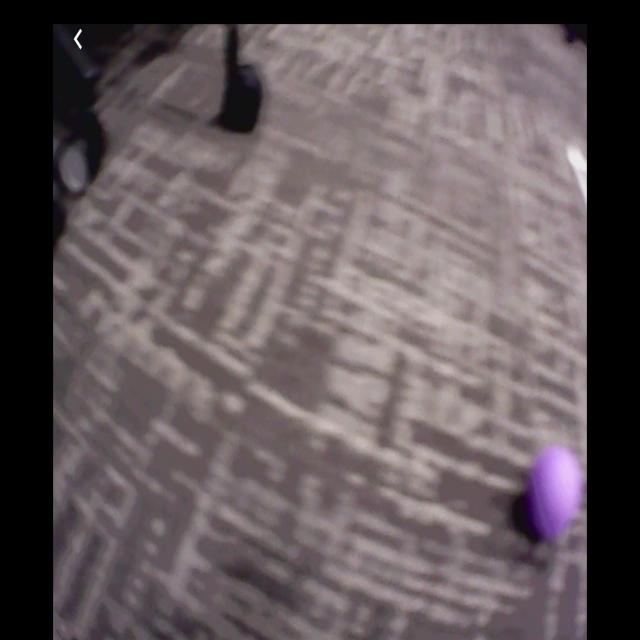ball: (525, 443, 585, 543)
